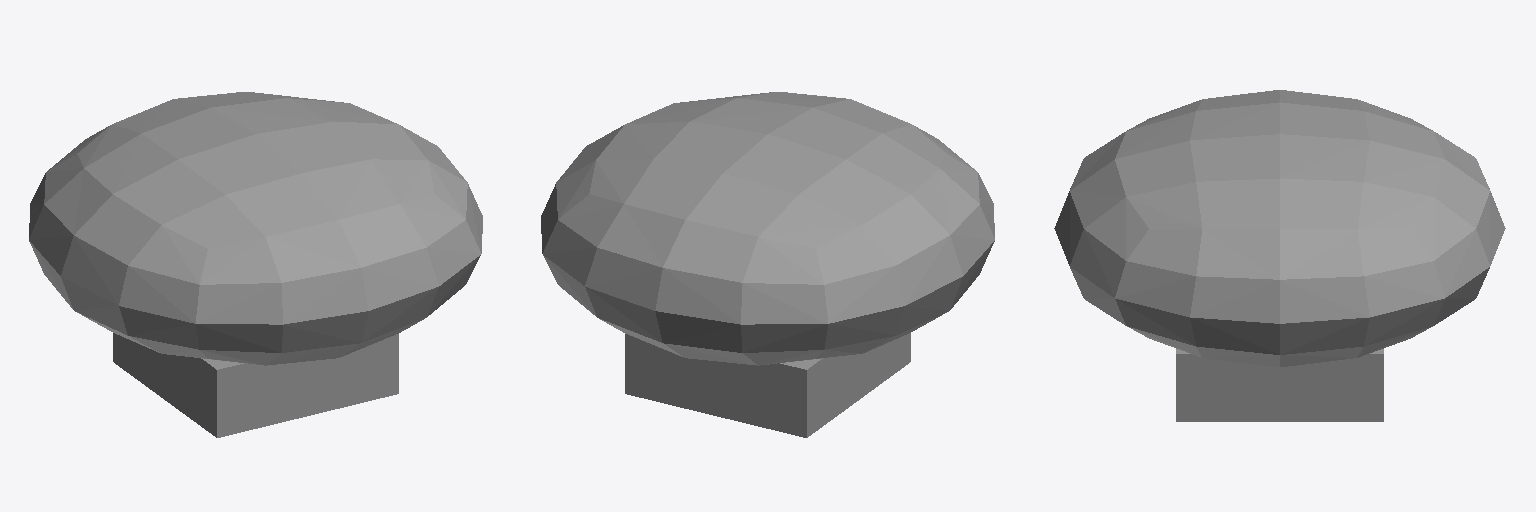
The model's file is light.obj.
3 views of the same model, side by side, from view 1: azimuth 30°, elevation 25°; view 2: azimuth 150°, elevation 25°; view 3: azimuth 270°, elevation 25° (orthographic).
Visible parts, largest first — view 1: Cube.001, Cube; view 2: Cube.001, Cube; view 3: Cube.001, Cube.
Boxes of the visible parts, box(x1,y1,x2,y2) form: Cube.001: box(29, 92, 482, 365); Cube: box(113, 333, 398, 437); Cube.001: box(541, 92, 994, 365); Cube: box(625, 333, 910, 437); Cube.001: box(1054, 90, 1505, 366); Cube: box(1176, 349, 1383, 421).
Size of the model in its own units: 0.2297 by 0.137 by 0.2297.